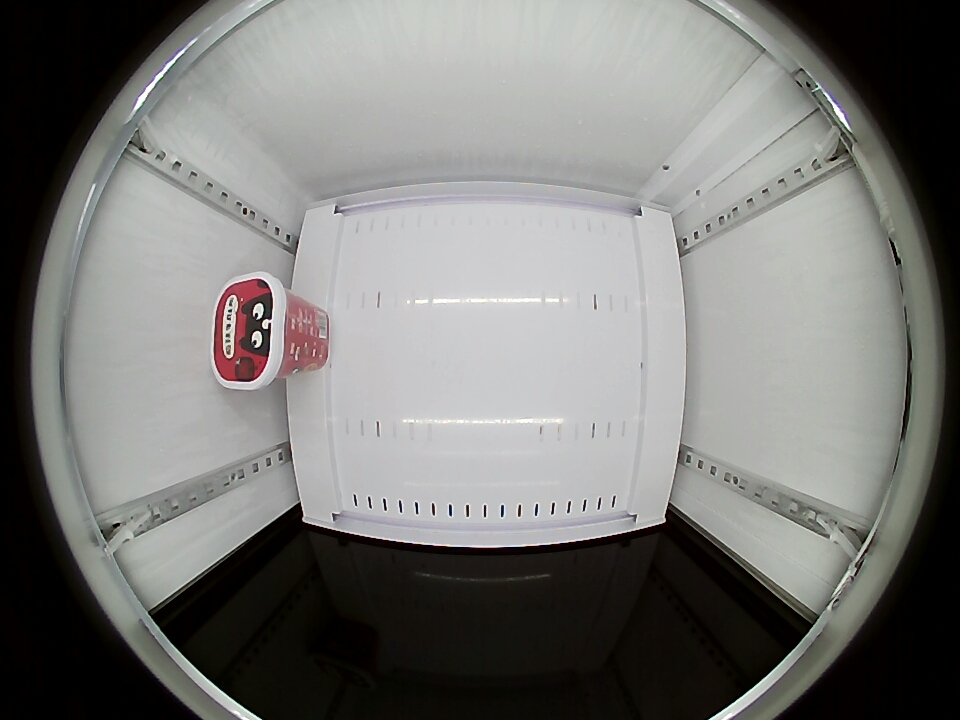niudufen: (212, 272, 298, 390)
